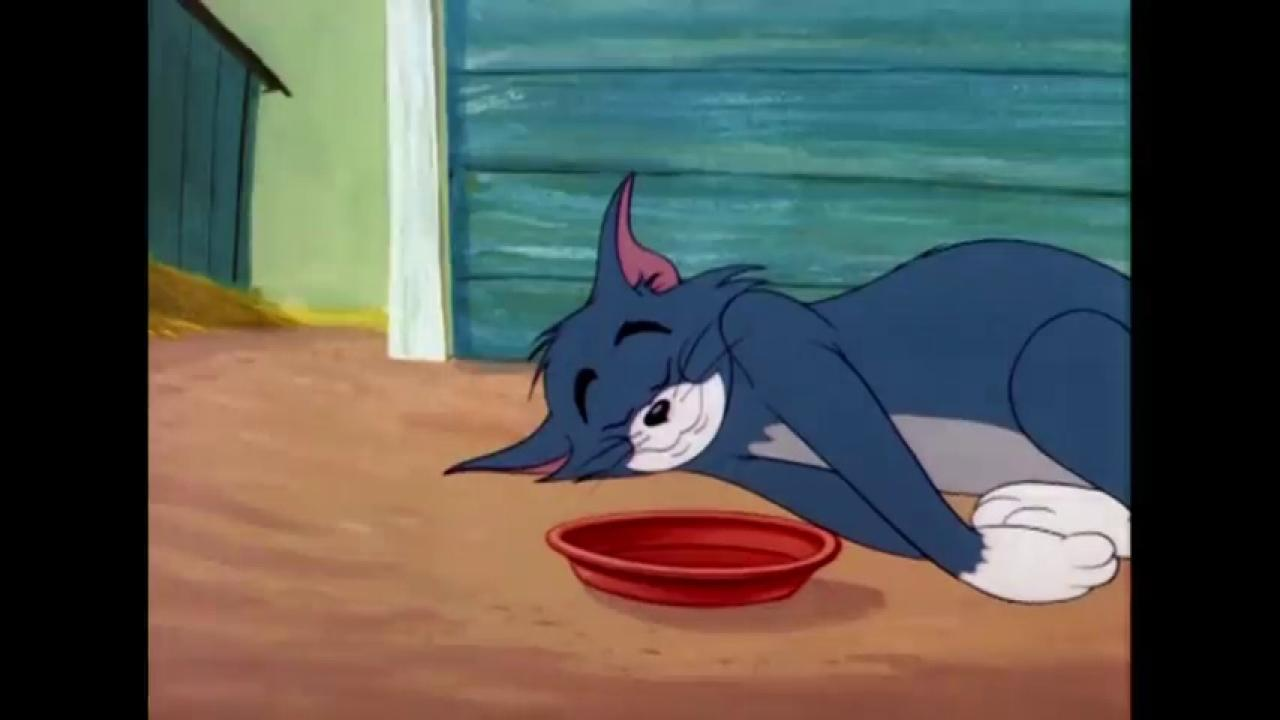Tom: (439, 169, 1130, 606)
